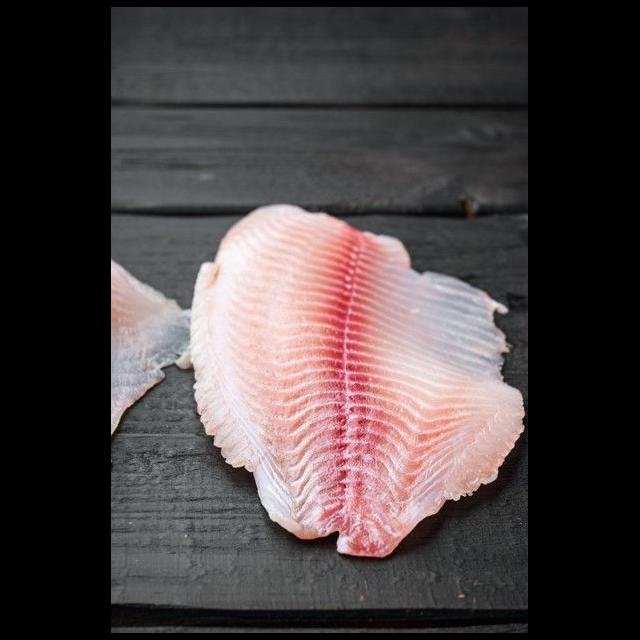fish: (188, 176, 528, 569)
